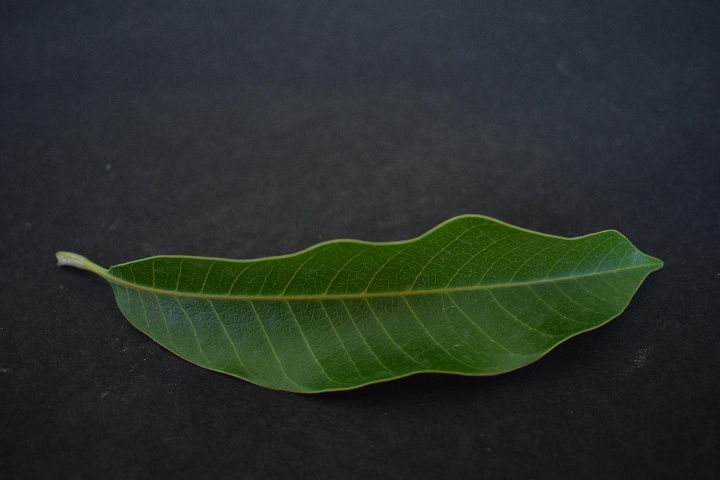healthy: (76, 211, 680, 391)
